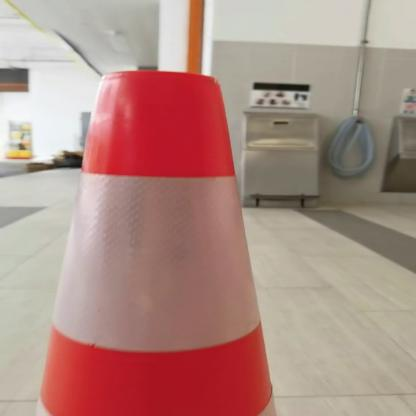cone: (20, 62, 329, 416)
